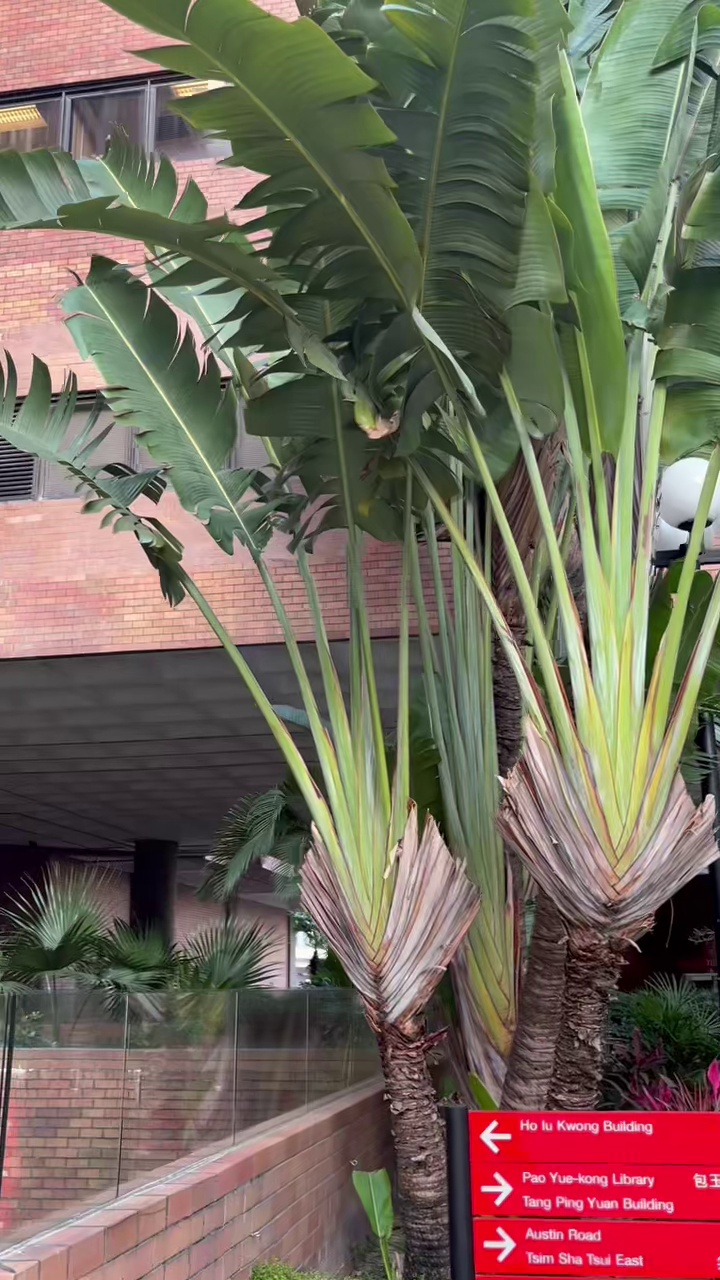Travellers-tree: (0, 0, 719, 1007)
